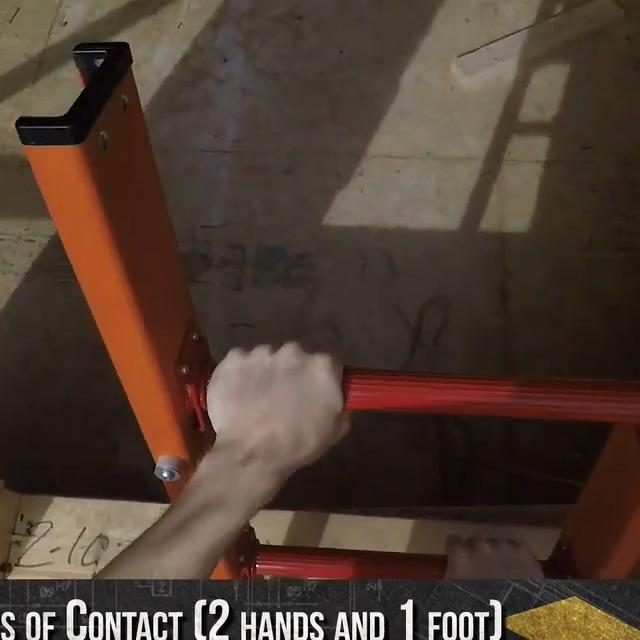Ladder: (16, 39, 640, 577)
Person: (92, 341, 351, 578)
